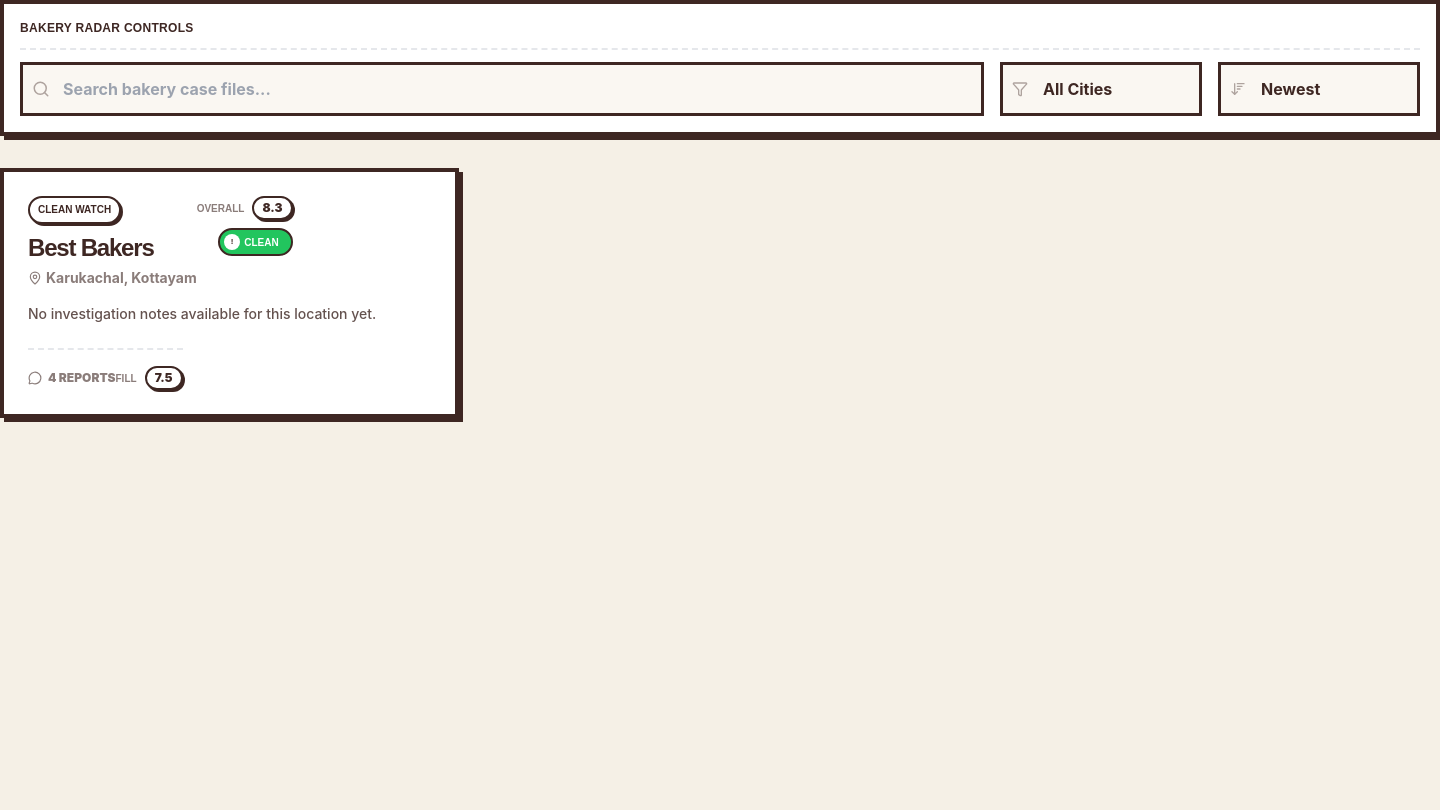
it: BakeryList detail modal › opens bakery details without navigating to a slug route
What coordinates should you click on to do the following:
click the button "Best Bakers"
I would click on:
 (75, 210)
Its box is [0,168,459,418].
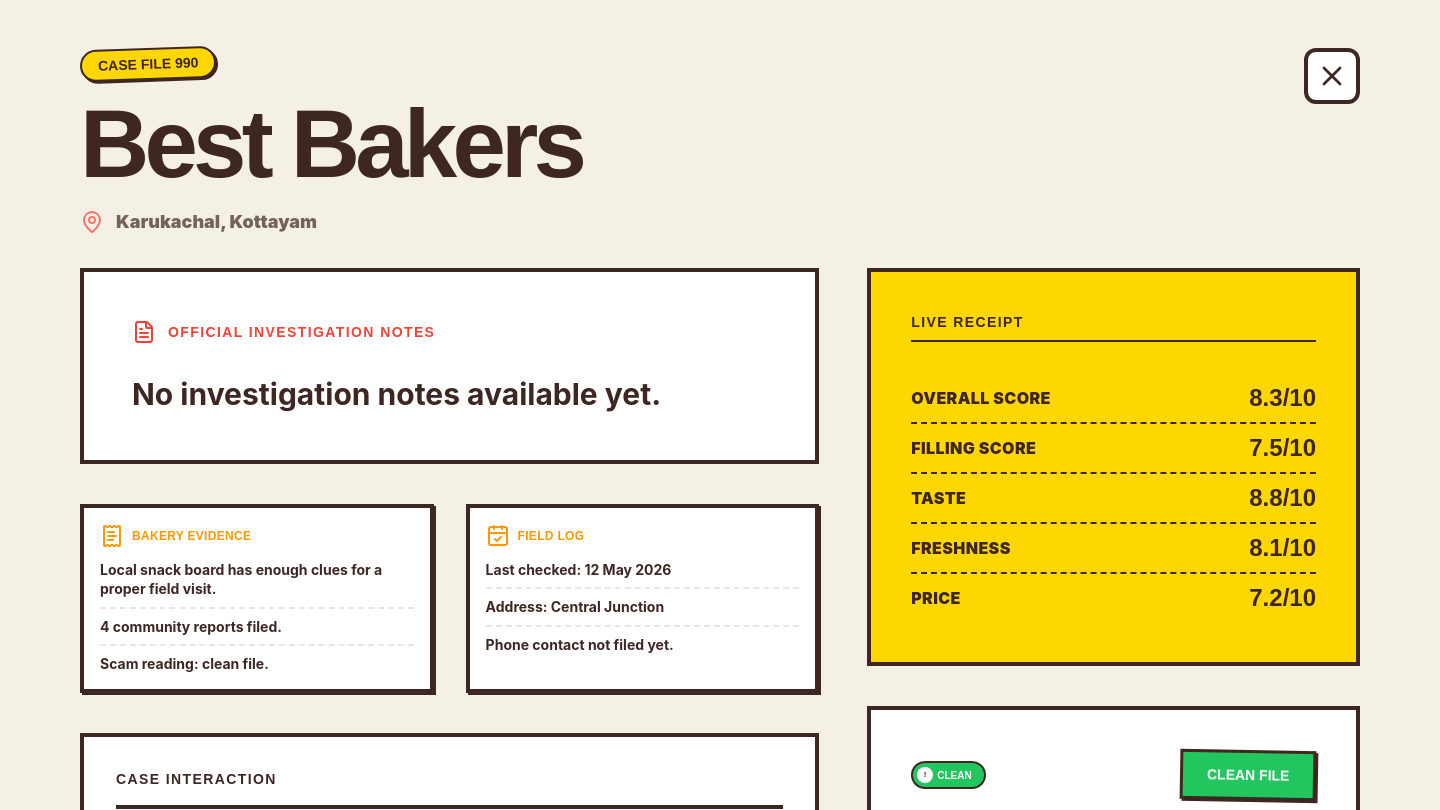
expect the dialog "Best Bakers" is shown: met
expect the text "No investigation notes available yet." is shown: met, box [132,376,661,412]
expect the list item "4 community reports filed." is shown: met, box [100,616,414,646]
